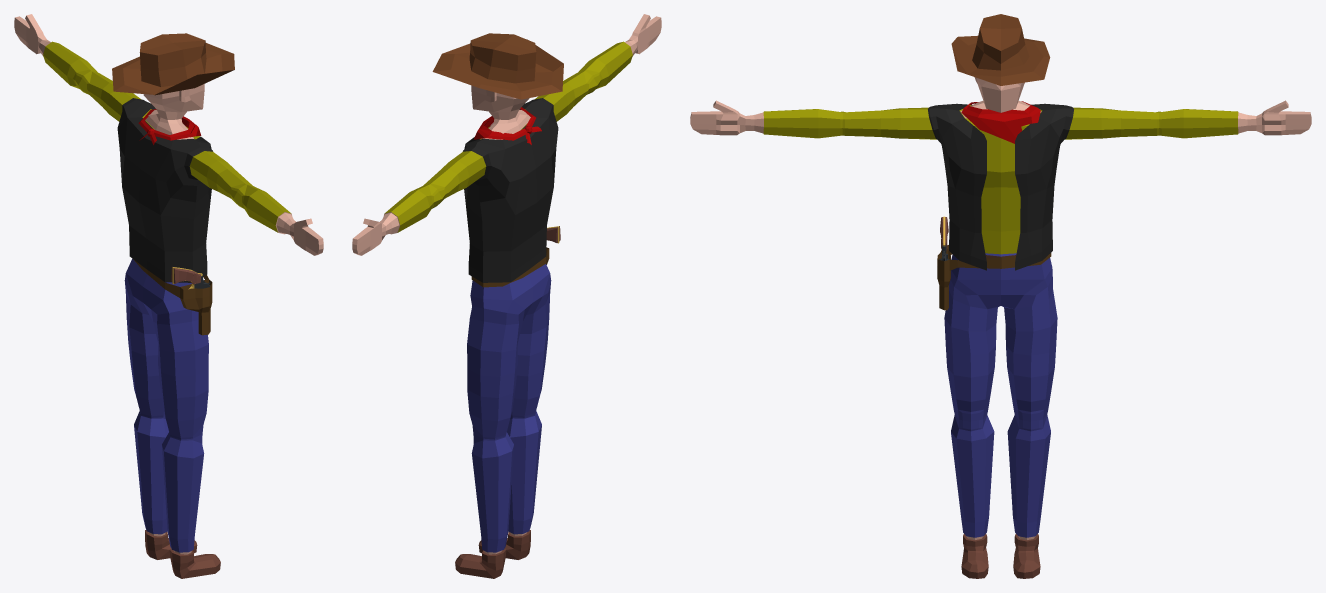
File: cowboy(1).fbx
3 renders of one model, left to right at view 1: azimuth 30°, elevation 25°; view 2: azimuth 150°, elevation 25°; view 3: azimuth 270°, elevation 25°, orthographic.
Parts seen in each view (by area): view 1: Plane, Circle.001, Cube.003, Circle; view 2: Plane, Circle.001, Circle, Cube.003; view 3: Plane, Circle.001, Circle, Cube.003.
Boxes of the visible parts, x1,y1,x2,y2 form: Plane: (14, 14, 323, 578); Circle.001: (112, 33, 234, 95); Cube.003: (133, 259, 212, 335); Circle: (138, 109, 201, 144); Plane: (352, 14, 661, 578); Circle.001: (432, 33, 563, 99); Circle: (474, 107, 541, 144); Cube.003: (471, 247, 549, 287); Plane: (690, 77, 1311, 578); Circle.001: (951, 14, 1050, 85); Circle: (961, 101, 1040, 143); Cube.003: (937, 245, 1051, 310).
Size of the model in its own units: 118 by 488 by 514.
